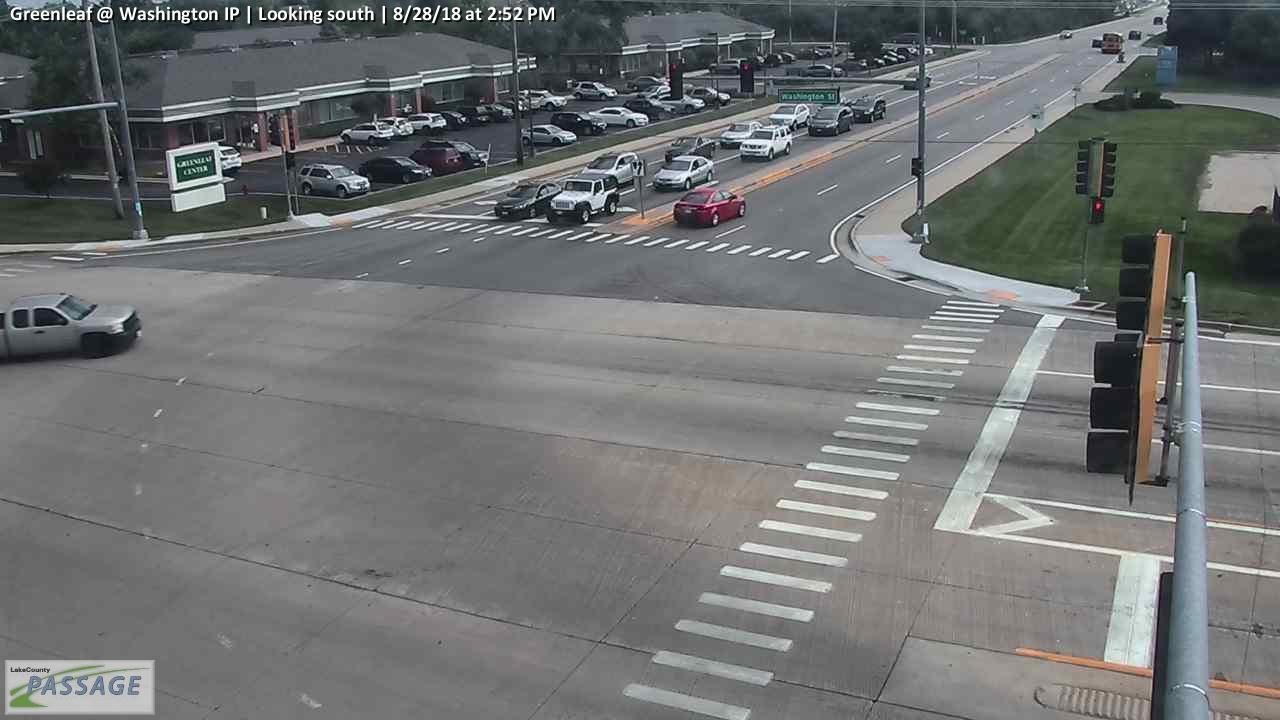SUV: (545, 174, 620, 225), (296, 163, 370, 198), (579, 150, 638, 187), (409, 139, 464, 176), (739, 125, 793, 162), (806, 103, 854, 136), (550, 110, 608, 136), (622, 97, 678, 121), (341, 122, 394, 147), (767, 102, 810, 132), (515, 89, 566, 111), (654, 94, 705, 115), (850, 95, 887, 123), (686, 87, 731, 109), (405, 113, 447, 136), (572, 80, 617, 101), (374, 116, 413, 140), (454, 105, 489, 126), (627, 75, 669, 92), (709, 57, 746, 75)
Sedan: (672, 187, 747, 227), (493, 179, 562, 220), (651, 155, 713, 192), (359, 156, 432, 184), (432, 141, 489, 171), (665, 133, 716, 163), (587, 106, 649, 129), (719, 120, 763, 149), (521, 124, 576, 146), (431, 110, 469, 130), (475, 103, 513, 123)
Truck: (1, 293, 140, 361)
